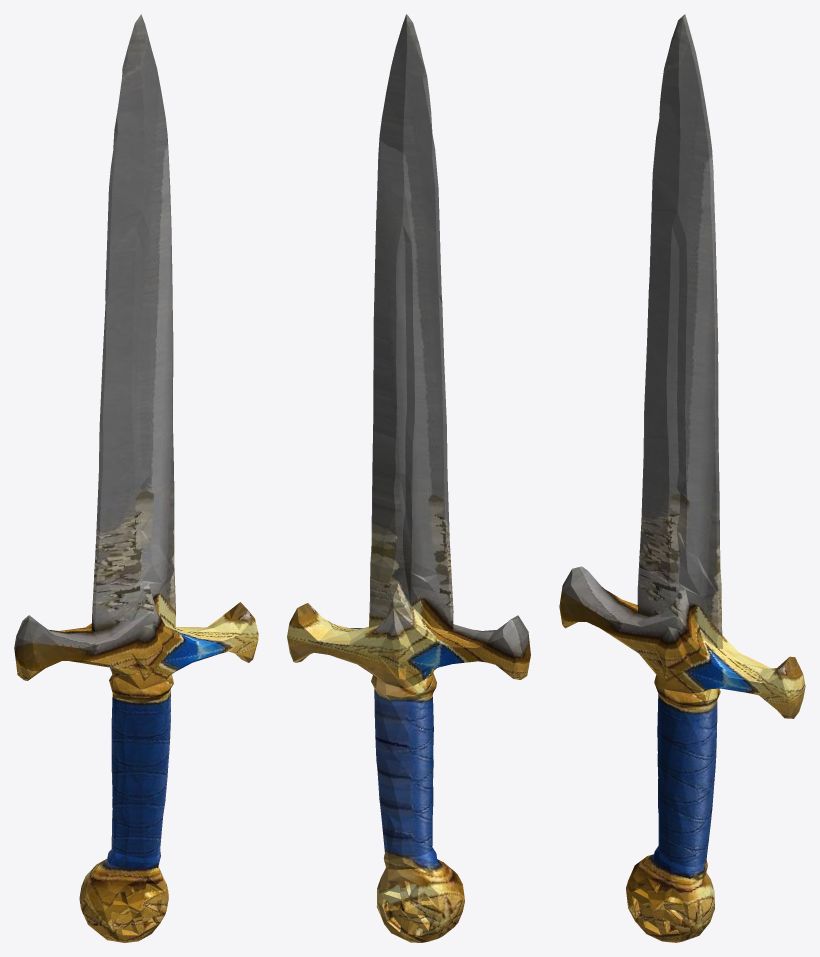
The model's file is sword.glb.
3 views of the same model, side by side, from view 1: azimuth 30°, elevation 25°; view 2: azimuth 150°, elevation 25°; view 3: azimuth 330°, elevation 25° (orthographic).
Parts seen in each view (by area): view 1: geometry_0; view 2: geometry_0; view 3: geometry_0.
Part boxes in pixels (x1=…): geometry_0: x1=14, y1=14, x2=258, y2=942; geometry_0: x1=287, y1=14, x2=530, y2=942; geometry_0: x1=559, y1=14, x2=805, y2=942.
Size of the model in its own units: 0.4305 by 1.59 by 0.1013.
Materials: 1 (1 with a texture image).
